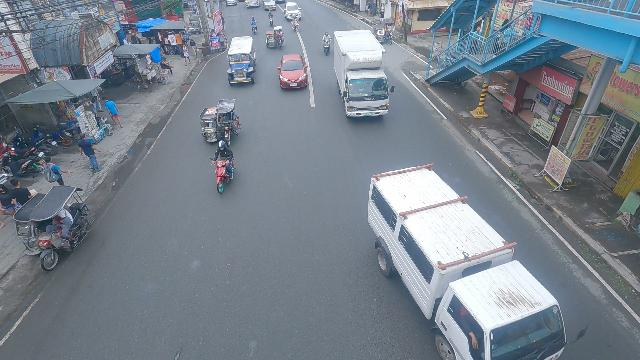car: (276, 53, 309, 91), (283, 2, 302, 20), (262, 0, 277, 11), (245, 0, 260, 9), (226, 0, 238, 6)
jeepney: (226, 35, 257, 87)
motorcycle: (209, 142, 236, 195), (322, 33, 332, 56), (250, 18, 258, 35), (292, 19, 300, 33), (267, 12, 274, 26)
truck: (332, 30, 392, 120)
van: (364, 163, 576, 360)
